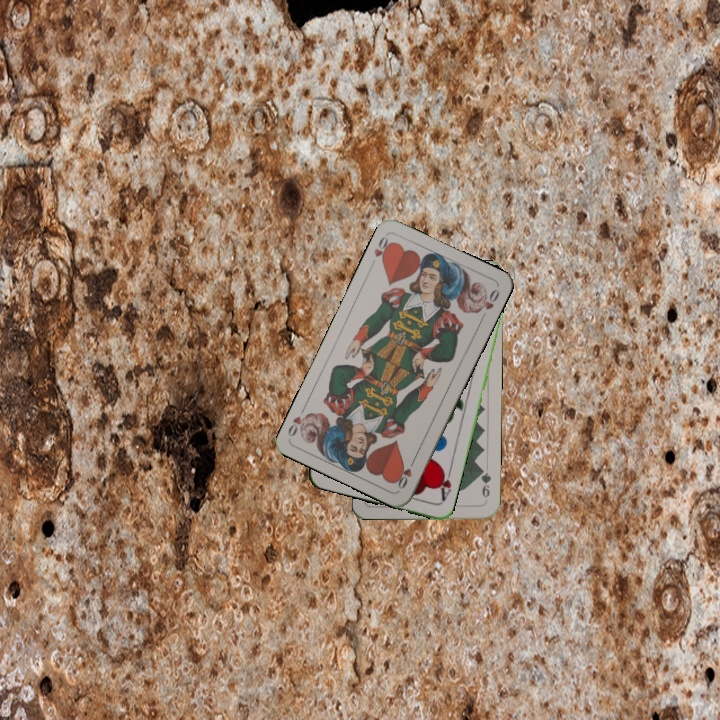G9: (477, 464, 494, 504)
HA: (434, 464, 454, 504)
HO: (393, 454, 418, 492), (370, 232, 395, 266)
